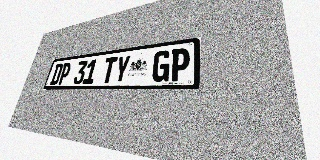1: (82, 59, 99, 84)
3: (72, 60, 88, 84)
D: (49, 63, 64, 85)
G: (151, 50, 171, 82)
P: (169, 47, 190, 82), (57, 62, 72, 85)
T: (100, 56, 118, 83)
Y: (113, 55, 131, 83)
